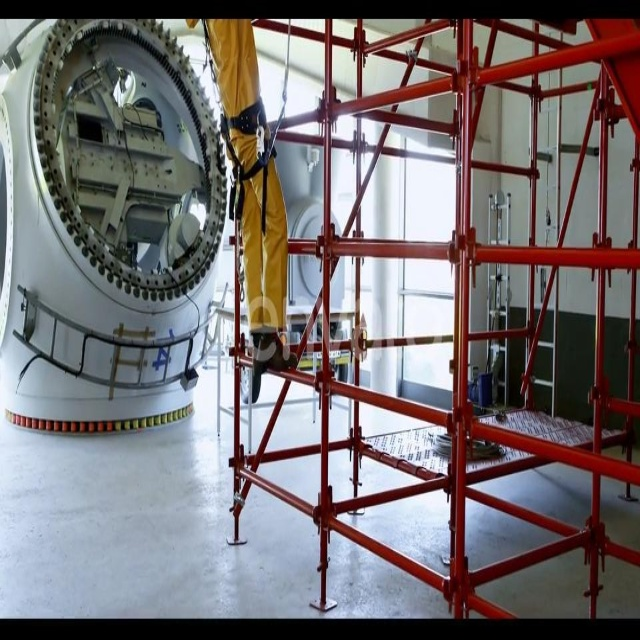Arnes_seguridad: (197, 6, 288, 225)
